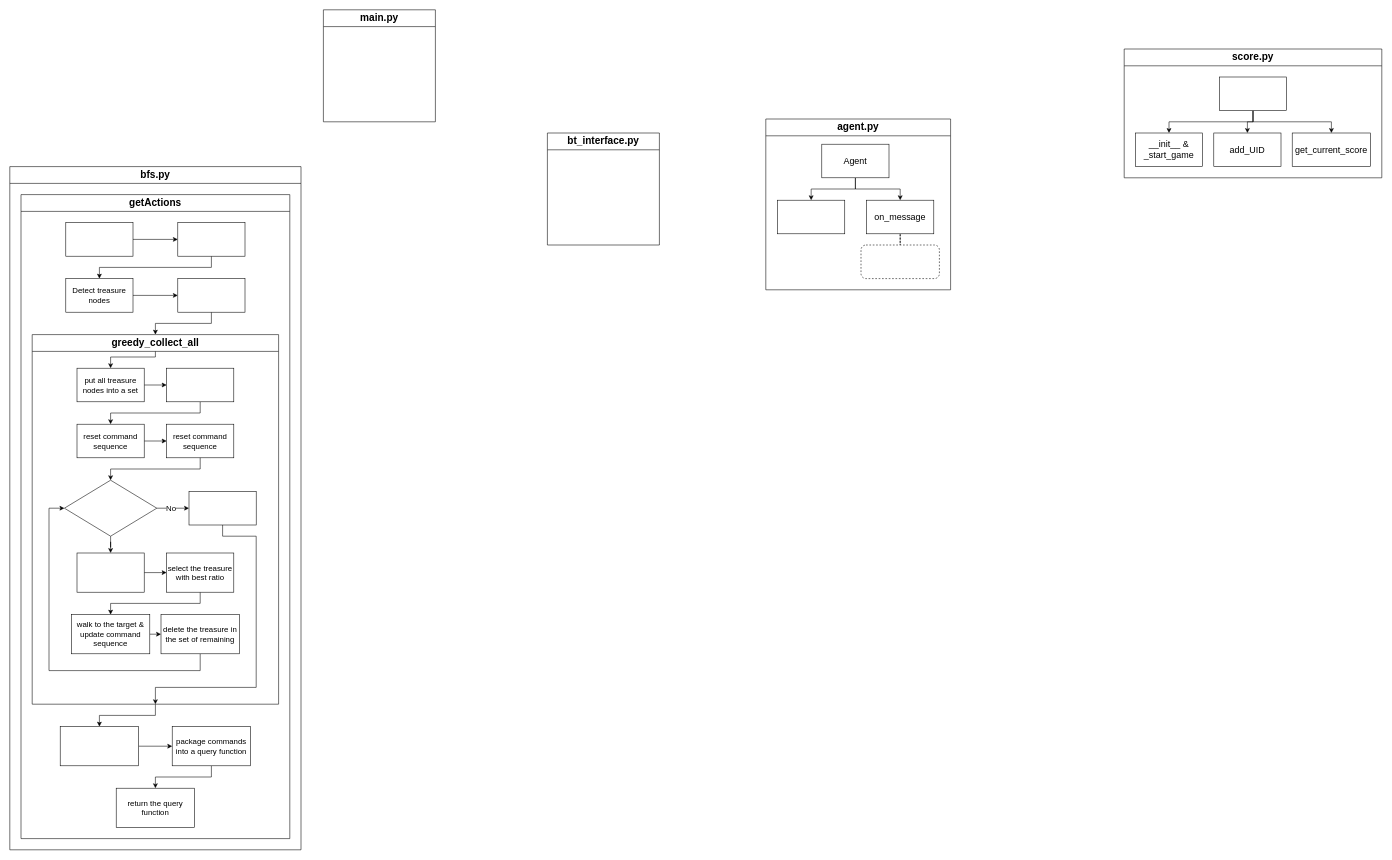
Image size: 1392x860. Some labels were removed from this diagram. Here are the shapes that lost their labels. From the top down, the centre of each, then its label:
At point (1253, 93): "Scoreboard".
At point (811, 217): "__init__".
At point (99, 239): "Load map & parse to dict".
At point (211, 239): "Detect starting direction".
At point (899, 261): "Determine the response to the HM-10 message".
At point (211, 295): "Compute treasure scores".
At point (200, 385): "Initialize current node & direction".
At point (110, 508): "There are still unvisited treasures?".
At point (222, 508): "return command sequence".
At point (110, 572): "compute (score/path length) of all remaining treasures".
At point (99, 746): "filter commands".
